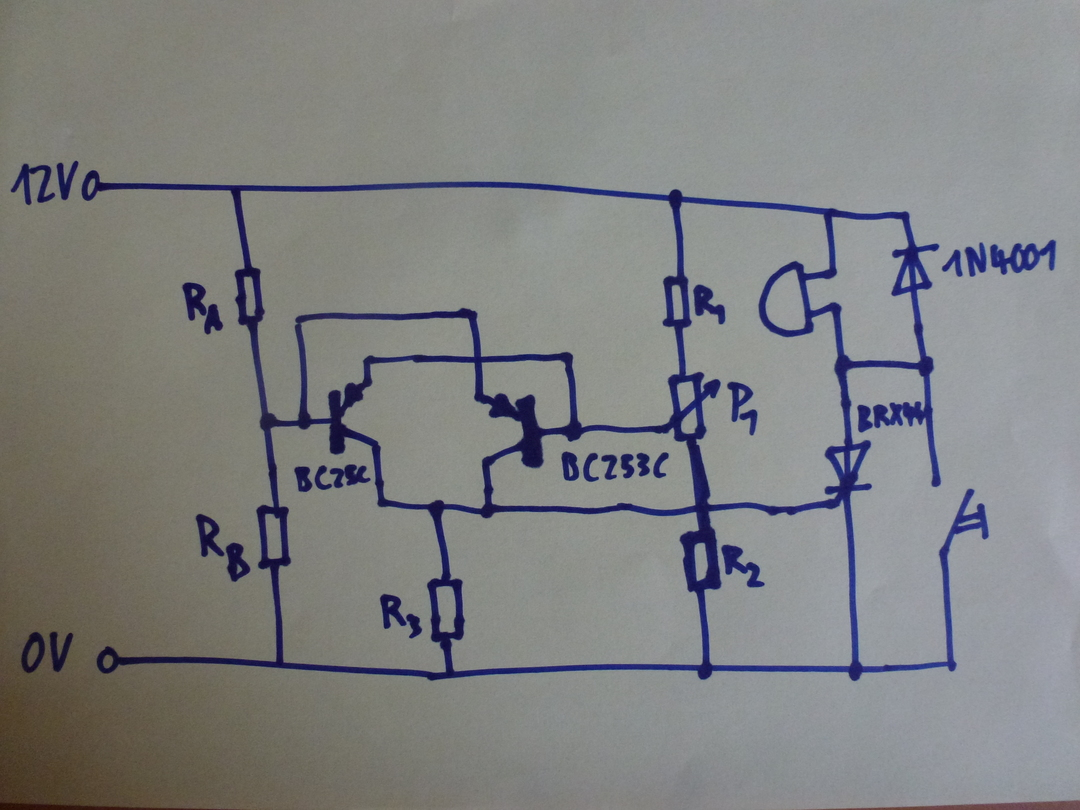crossover: (691, 499, 714, 517), (468, 351, 488, 368)
diode: (890, 242, 941, 297)
junction: (562, 418, 586, 444), (832, 353, 854, 378), (424, 498, 449, 518), (916, 354, 936, 379), (258, 411, 278, 433), (478, 499, 497, 522), (558, 348, 578, 369), (847, 660, 865, 683), (462, 304, 481, 324), (296, 412, 315, 432), (667, 188, 686, 208), (697, 660, 714, 681), (897, 207, 914, 224), (827, 299, 843, 316), (820, 204, 836, 221), (361, 353, 377, 369), (442, 667, 459, 681), (825, 265, 839, 282), (375, 495, 389, 511), (292, 311, 306, 326), (944, 658, 958, 673), (228, 182, 244, 195), (272, 658, 286, 670)
lamp: (757, 259, 816, 339)
resistor: (679, 527, 722, 594), (426, 574, 467, 643), (255, 502, 294, 572), (233, 266, 267, 328), (661, 273, 693, 330)
resistor.adjustable: (662, 370, 722, 442)
switch: (930, 482, 990, 555)
terminal: (95, 644, 122, 675), (80, 169, 103, 204)
text: (940, 237, 1058, 278), (194, 512, 252, 583), (560, 449, 672, 483), (9, 160, 80, 206), (180, 280, 226, 336), (19, 630, 75, 675), (293, 464, 372, 494), (856, 400, 925, 434), (720, 542, 767, 590), (378, 592, 423, 640), (725, 380, 760, 438), (691, 283, 728, 327)
thyristor: (823, 438, 877, 512)
transistor: (472, 392, 545, 469), (326, 378, 382, 457)
